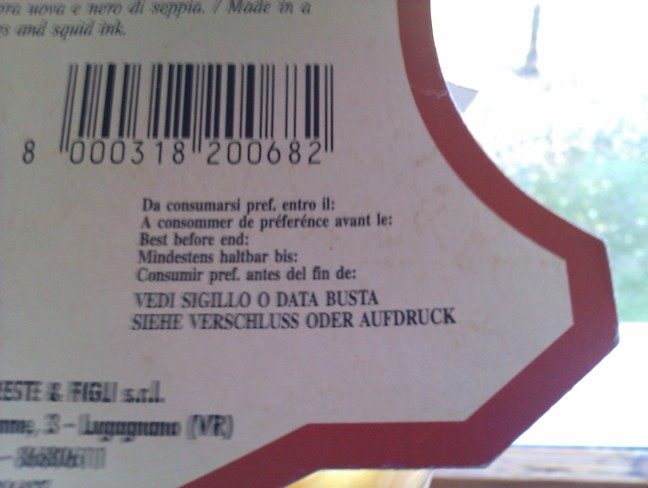barcode: (9, 52, 346, 181)
